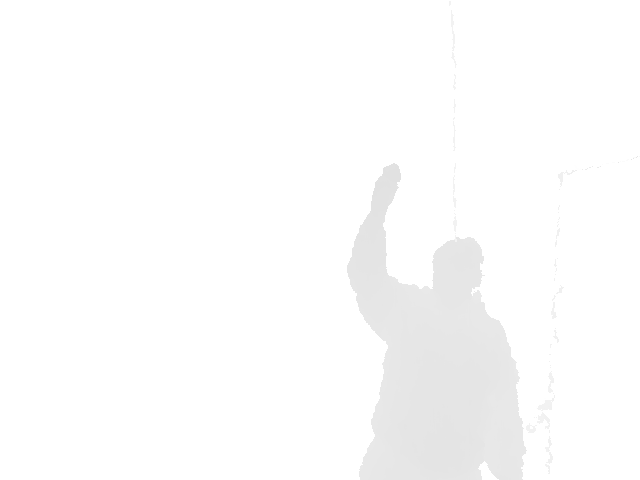hand: (371, 162, 402, 211)
head: (431, 236, 485, 301)
person: (345, 162, 527, 480)
